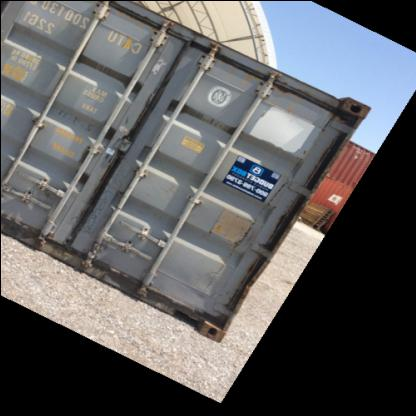Damage: (62, 152, 125, 244), (224, 181, 278, 258), (180, 104, 234, 139), (318, 93, 365, 132), (50, 103, 98, 138), (90, 50, 120, 78), (263, 70, 287, 94)
